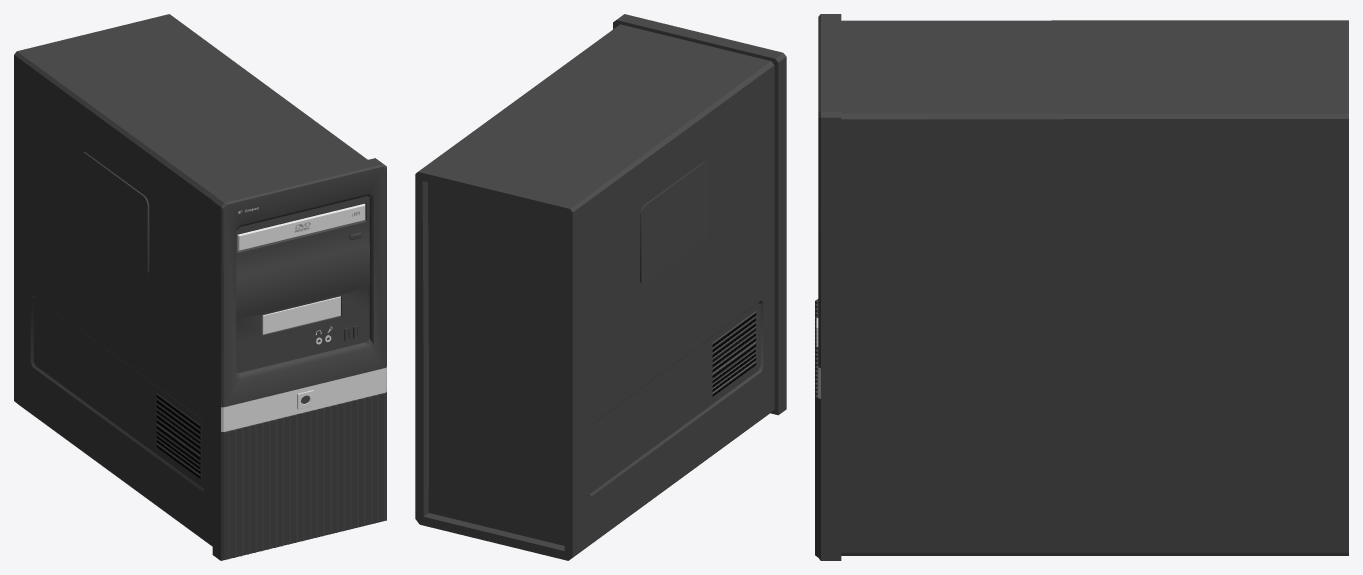
3 views of the same model, side by side, from view 1: azimuth 30°, elevation 25°; view 2: azimuth 150°, elevation 25°; view 3: azimuth 270°, elevation 25° (orthographic). The views are drawn at different scales.
Parts seen in each view (by area): view 1: HP2310; view 2: HP2310; view 3: HP2310.
Part boxes in pixels (<box>): HP2310: <box>14,14,386,560</box>; HP2310: <box>415,14,786,560</box>; HP2310: <box>815,14,1348,560</box>.
Bounding box in the file's own units: 18 × 40 × 37.
